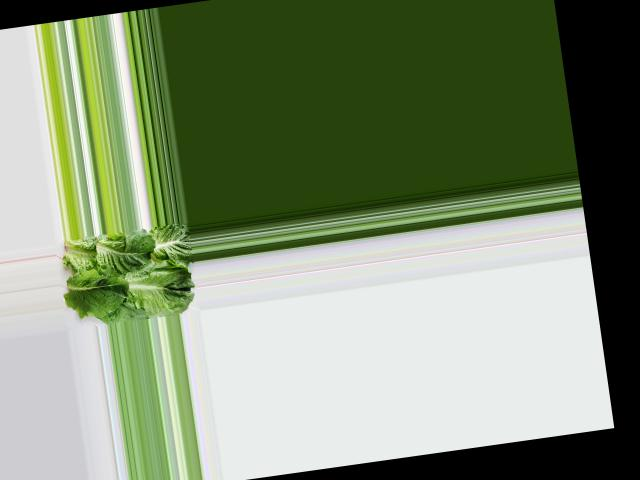lettuce: (59, 221, 197, 326)
